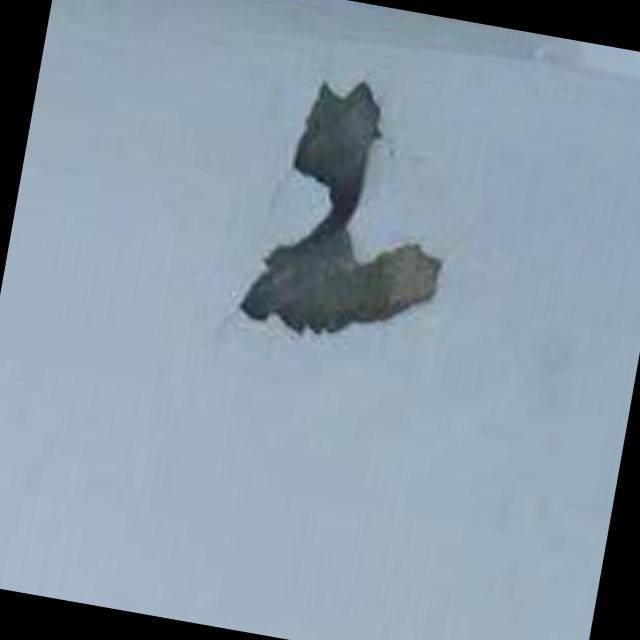surface_peeling: (226, 59, 485, 360)
